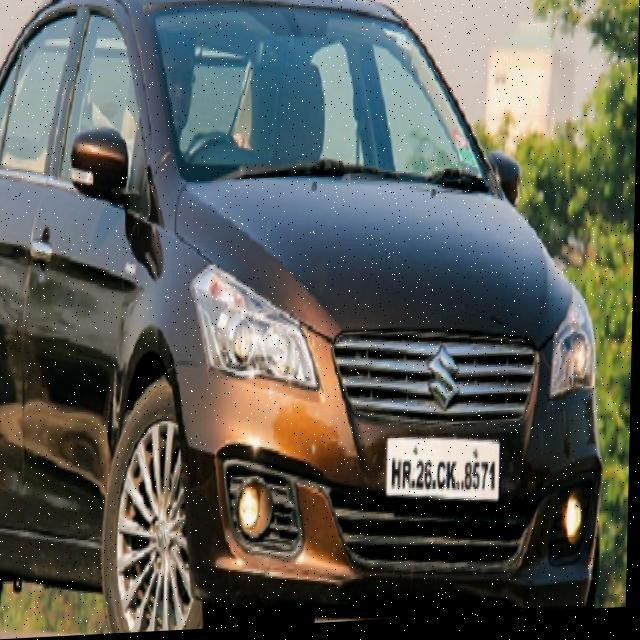plate: (385, 432, 504, 513)
